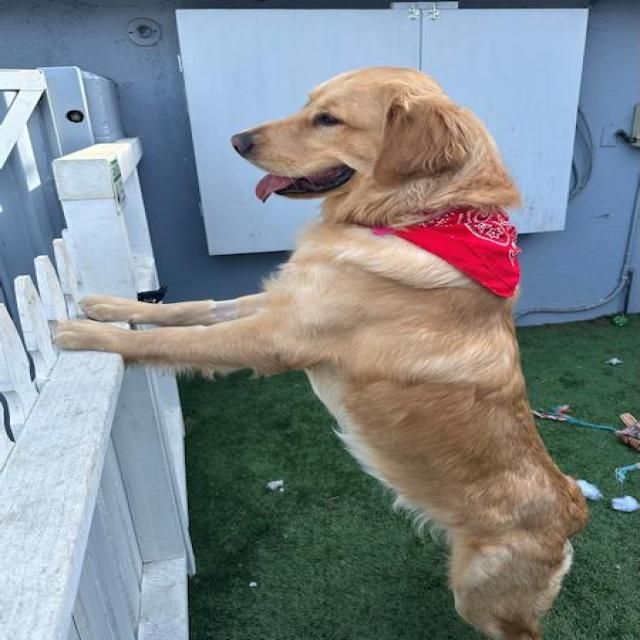golden_retriever_dog: (214, 55, 524, 240)
